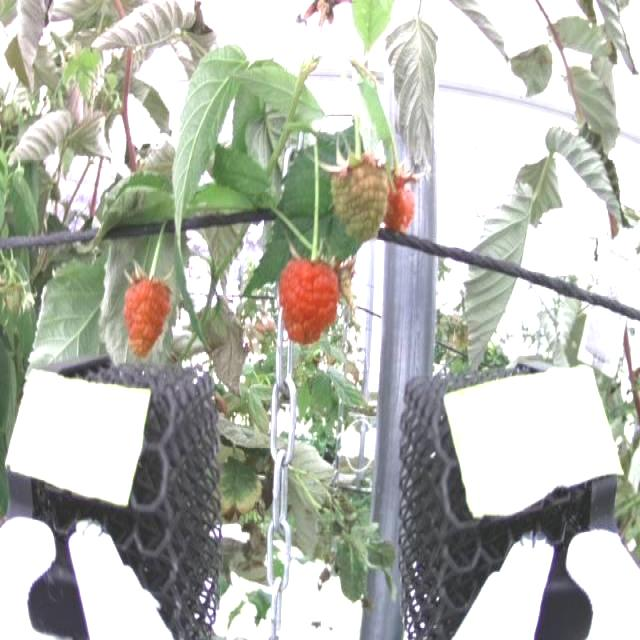Riped berries: (279, 247, 343, 347), (122, 271, 175, 349), (382, 167, 422, 230)
